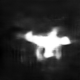plane: (16, 25, 78, 64)
